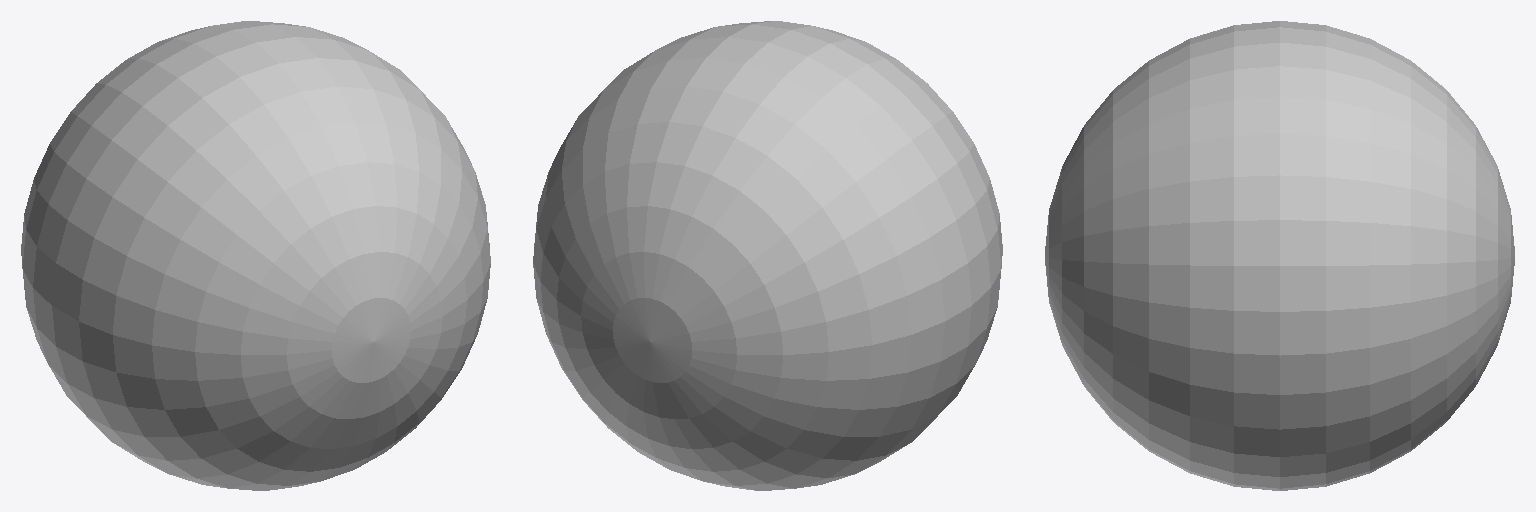
Rendered from Orb Arena.obj.
The picture shows the model from 3 angles: view 1: azimuth 30°, elevation 25°; view 2: azimuth 150°, elevation 25°; view 3: azimuth 270°, elevation 25°; orthographic projection.
Visible parts, largest first — view 1: Sphere_Sphere.001; view 2: Sphere_Sphere.001; view 3: Sphere_Sphere.001.
Part boxes in pixels (bbox=[...]): Sphere_Sphere.001: bbox=[21, 21, 490, 490]; Sphere_Sphere.001: bbox=[533, 21, 1002, 490]; Sphere_Sphere.001: bbox=[1045, 21, 1514, 490].
Bounding box in the file's own units: 100 × 100 × 100.